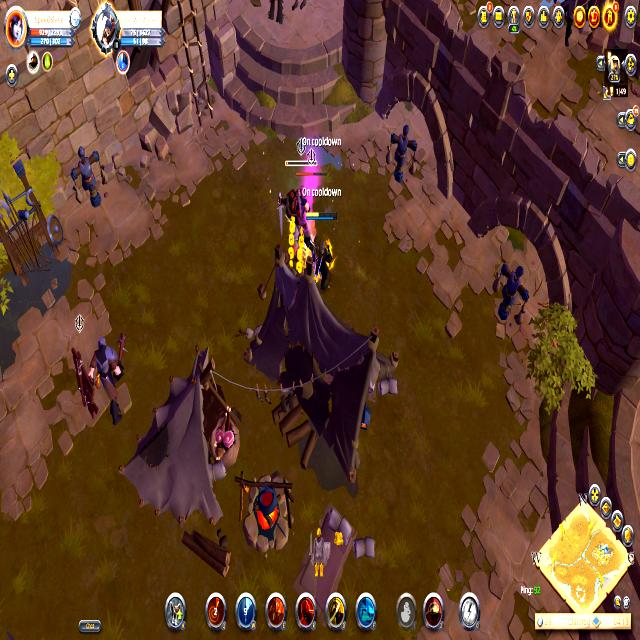ore: (64, 306, 134, 432), (280, 140, 330, 254)
red: (303, 204, 341, 296)
